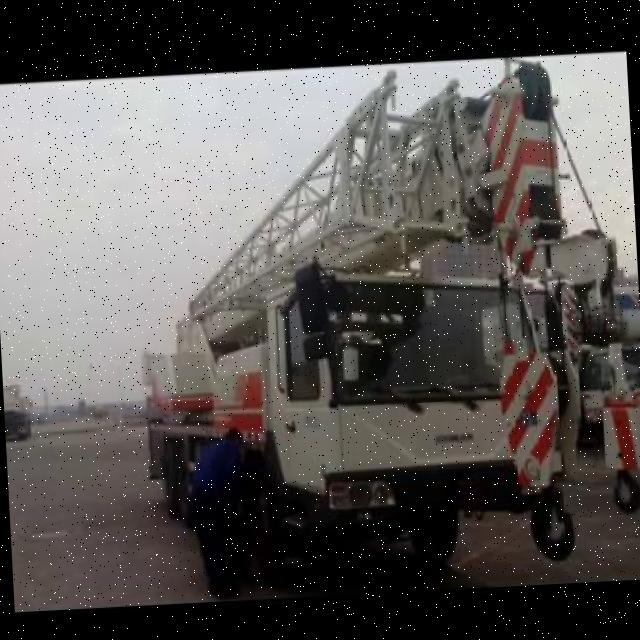Mobile Crane: (125, 53, 640, 588)
